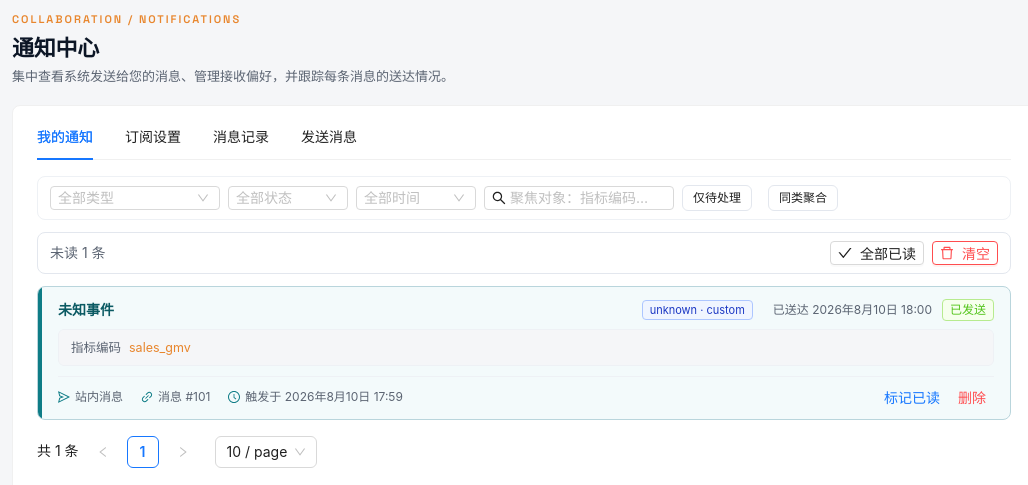
Test case: 通知中心 - 深链跳转 › 未知类型事件优雅降级：不跳转且提示
Click the text "未知事件". click: click(86, 310)
box: [58,301,114,318]
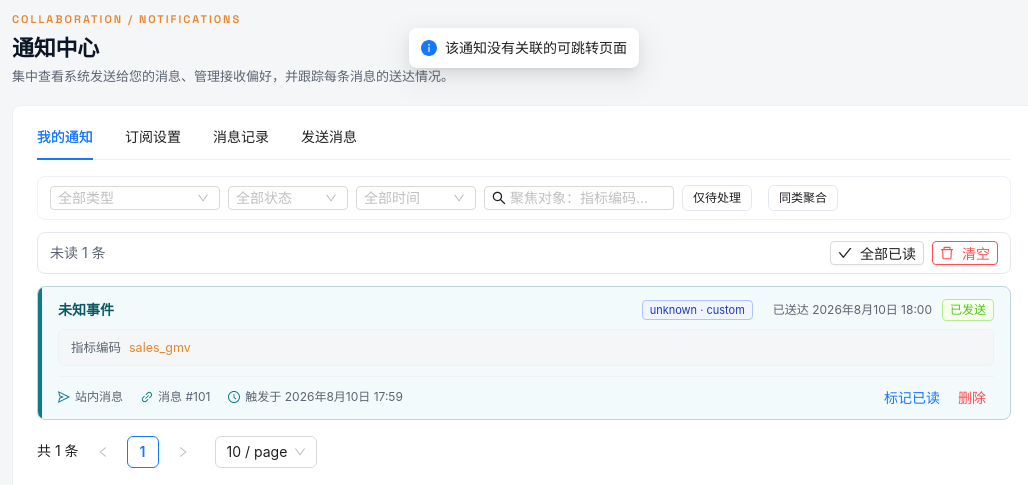
Check: the text "该通知没有关联的可跳转页面" is shown, box [445,37,627,59]
